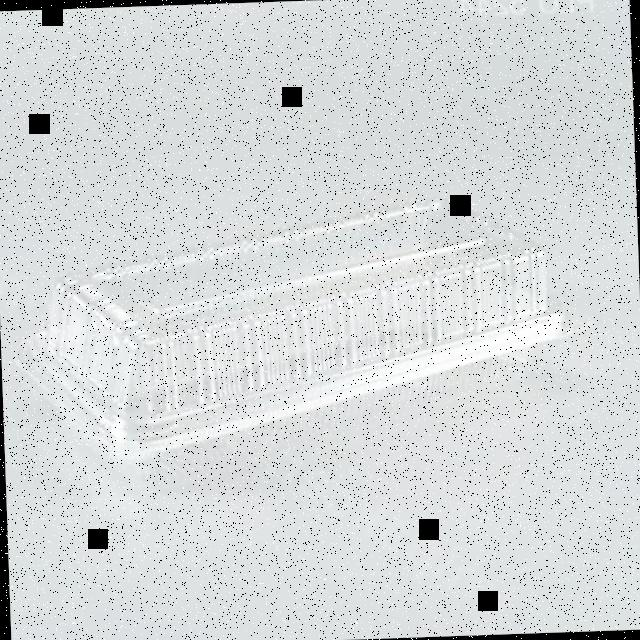plastic_box: (7, 190, 601, 496)
